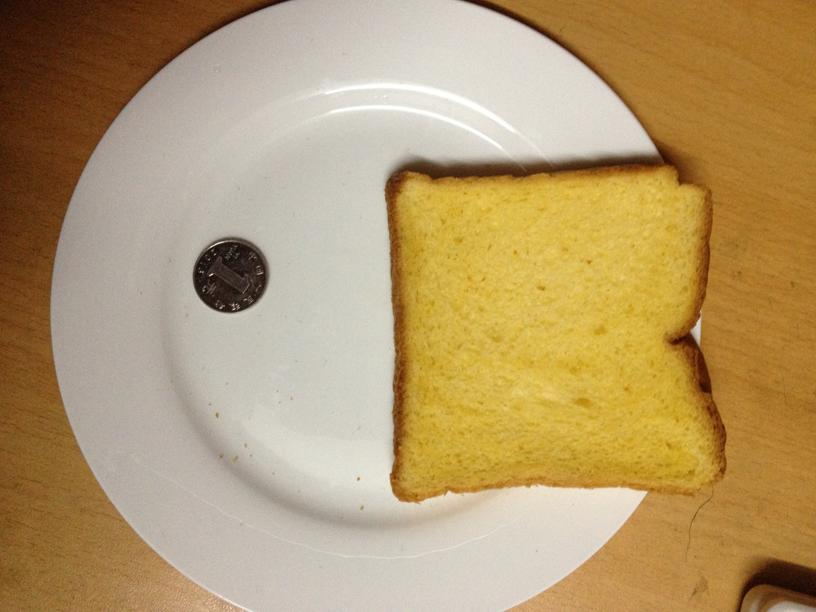bread: (384, 158, 729, 500)
coin: (193, 238, 267, 311)
